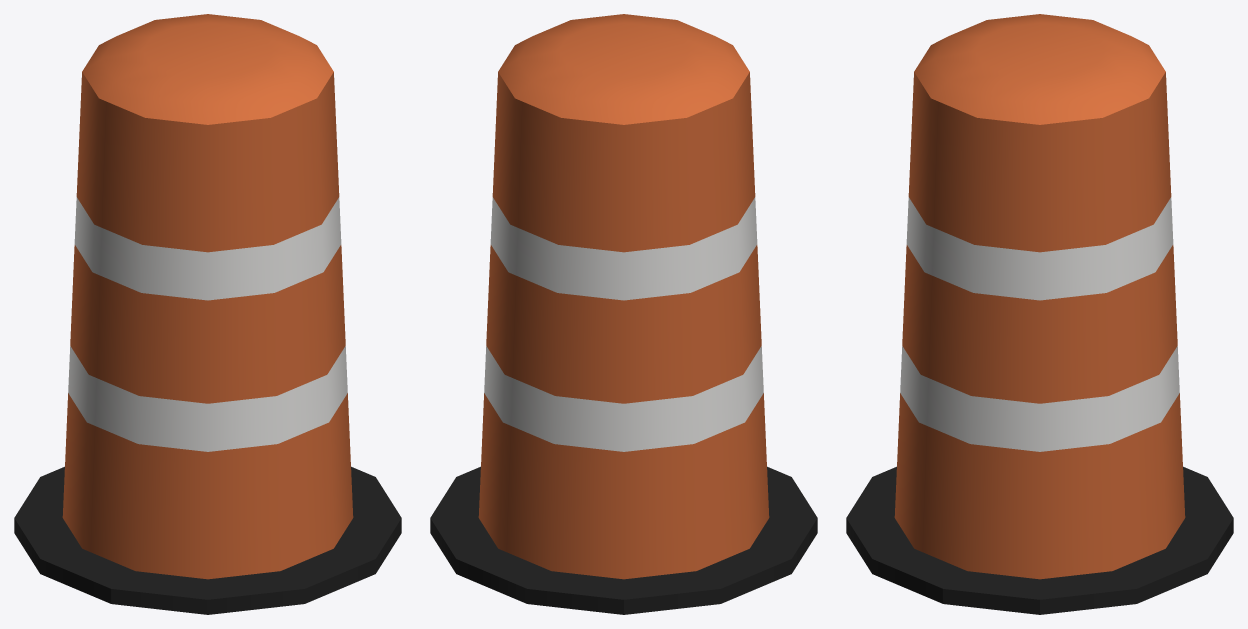
Rendered from SM_traffic_barrel.fbx.
3 views of the same model, side by side, from view 1: azimuth 30°, elevation 25°; view 2: azimuth 150°, elevation 25°; view 3: azimuth 270°, elevation 25° (orthographic).
Visible parts, largest first — view 1: Cylinder032; view 2: Cylinder032; view 3: Cylinder032.
Part boxes in pixels (x1,y1,x2,y2): Cylinder032: (14,14,401,614); Cylinder032: (430,14,817,614); Cylinder032: (846,14,1233,614).
Size of the model in its own units: 34.01 by 34.01 by 46.71.
